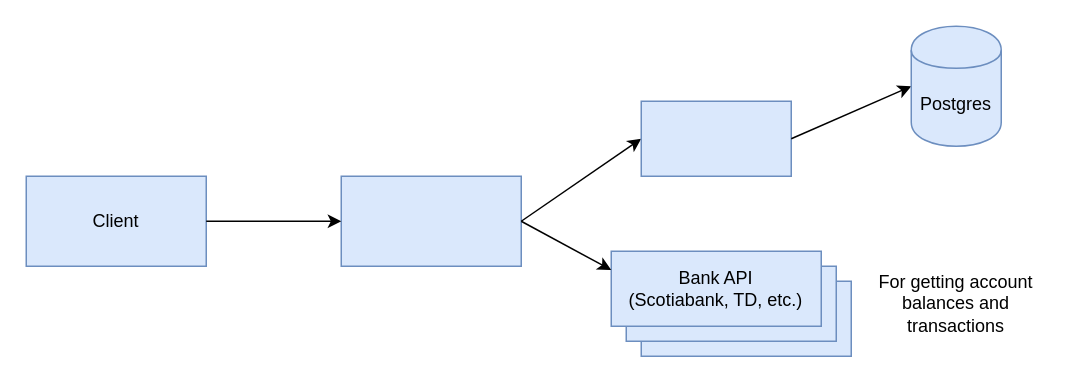
This 1065x383 diagram has some shape labels left out. Each missing label, with the centre of its shape:
"Flask Web Server" belongs at point (430, 220).
"Mint API" belongs at point (715, 138).
